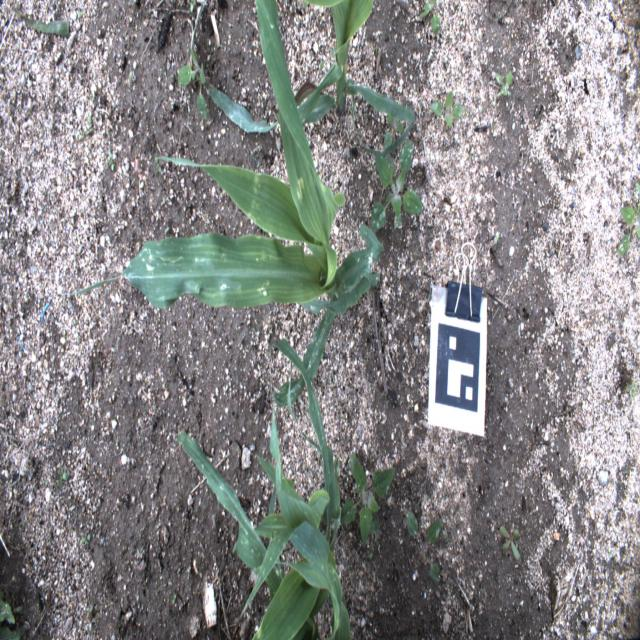crop: (57, 0, 384, 406), (174, 336, 352, 639), (197, 0, 416, 135), (11, 10, 70, 39)
weed: (342, 450, 396, 549), (371, 133, 423, 235), (405, 509, 442, 587), (176, 46, 210, 122), (616, 180, 640, 258), (429, 87, 467, 130), (0, 581, 28, 639), (496, 524, 521, 562), (418, 0, 440, 37), (494, 68, 514, 98), (78, 113, 94, 143), (624, 378, 640, 404), (56, 464, 70, 489), (87, 601, 95, 633), (153, 154, 163, 174), (80, 532, 92, 547), (107, 151, 116, 171), (368, 544, 376, 562), (170, 592, 178, 606), (493, 232, 500, 246), (41, 477, 50, 487), (373, 44, 380, 54)
